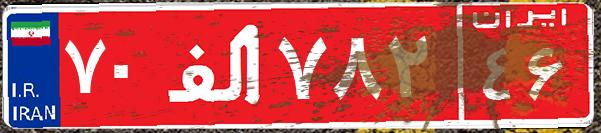0: (110, 28, 158, 105)
2: (385, 28, 445, 110)
4: (475, 38, 525, 113)
6: (525, 38, 570, 115)
7: (273, 28, 330, 110), (57, 26, 110, 107)
8: (330, 28, 385, 110)
الف: (158, 15, 273, 115)
